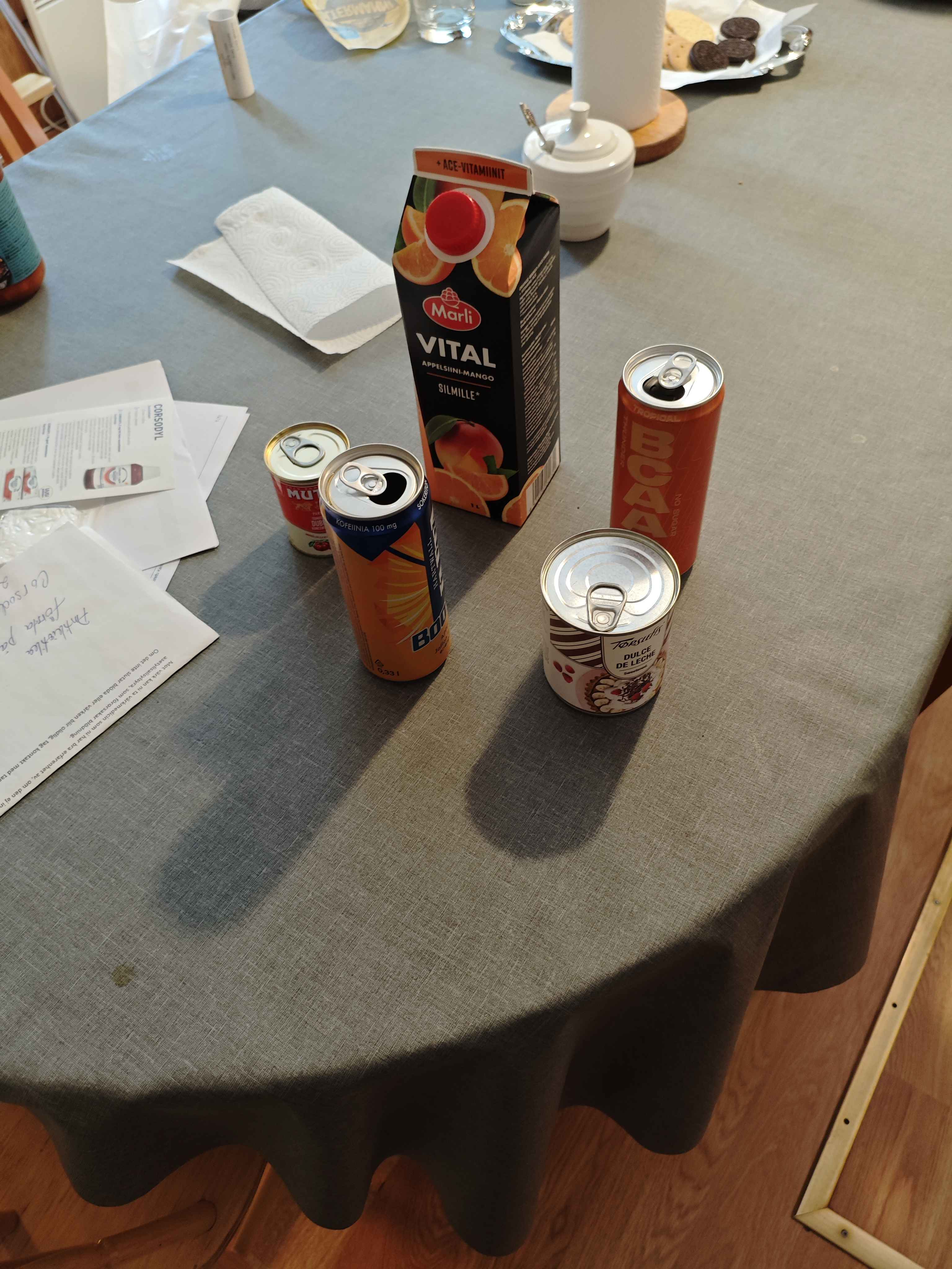Dryckeskartong: (384, 139, 564, 526)
Konservburk: (540, 524, 677, 723), (263, 424, 356, 557)
Pantburk: (316, 443, 455, 684), (610, 337, 720, 588)
